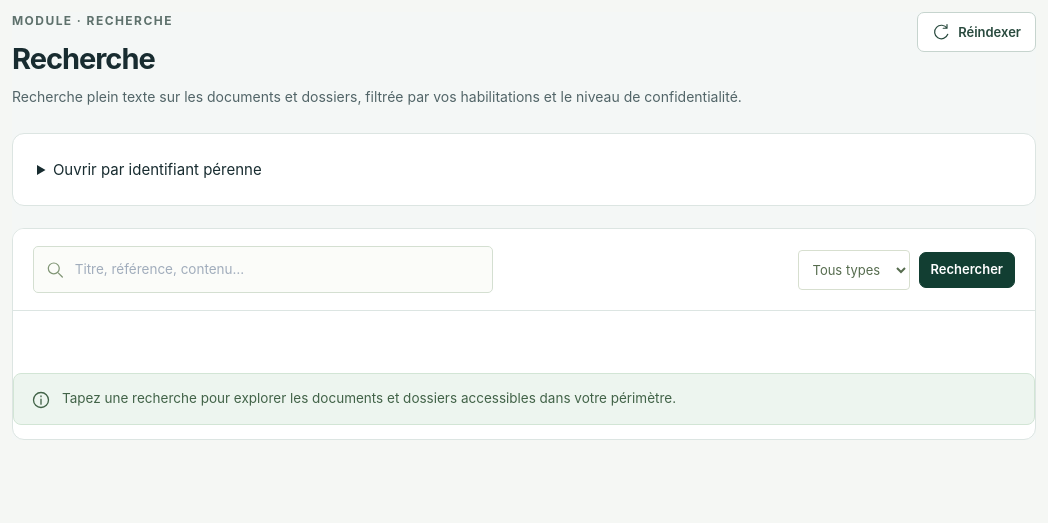
Scenario: la réindexation rend son bilan, signale les échecs et relit l’état du moteur
The width and height of the screenshot is (1048, 523).
Click the button "Réindexer": [977, 32] box [917, 12, 1036, 52]
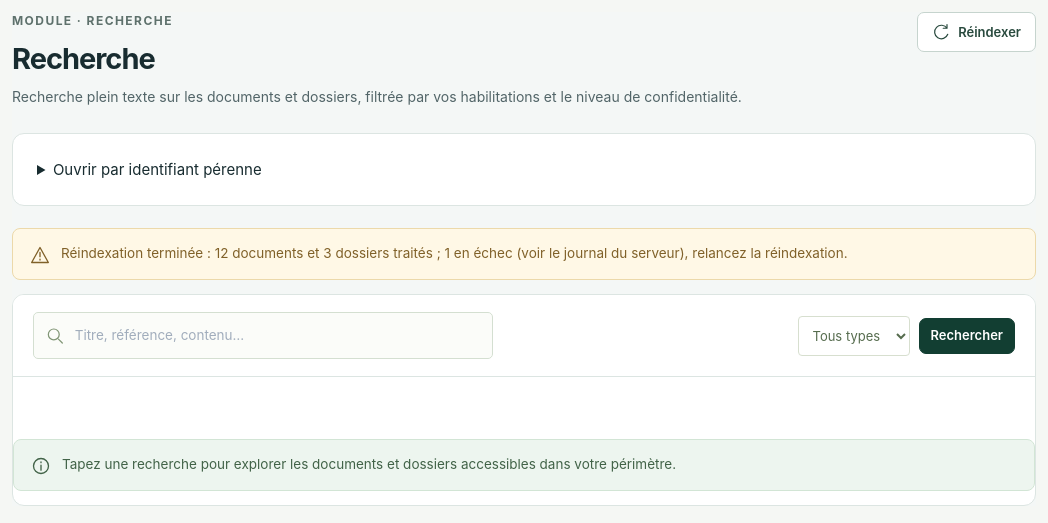
expect the text "12 documents et 3 dossiers traités ; 1 en échec" is shown: met, box [61, 244, 848, 265]
